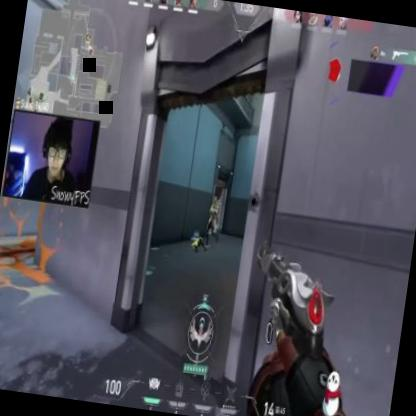enemy: (203, 194, 223, 250)
enemy_head: (211, 195, 218, 205)
